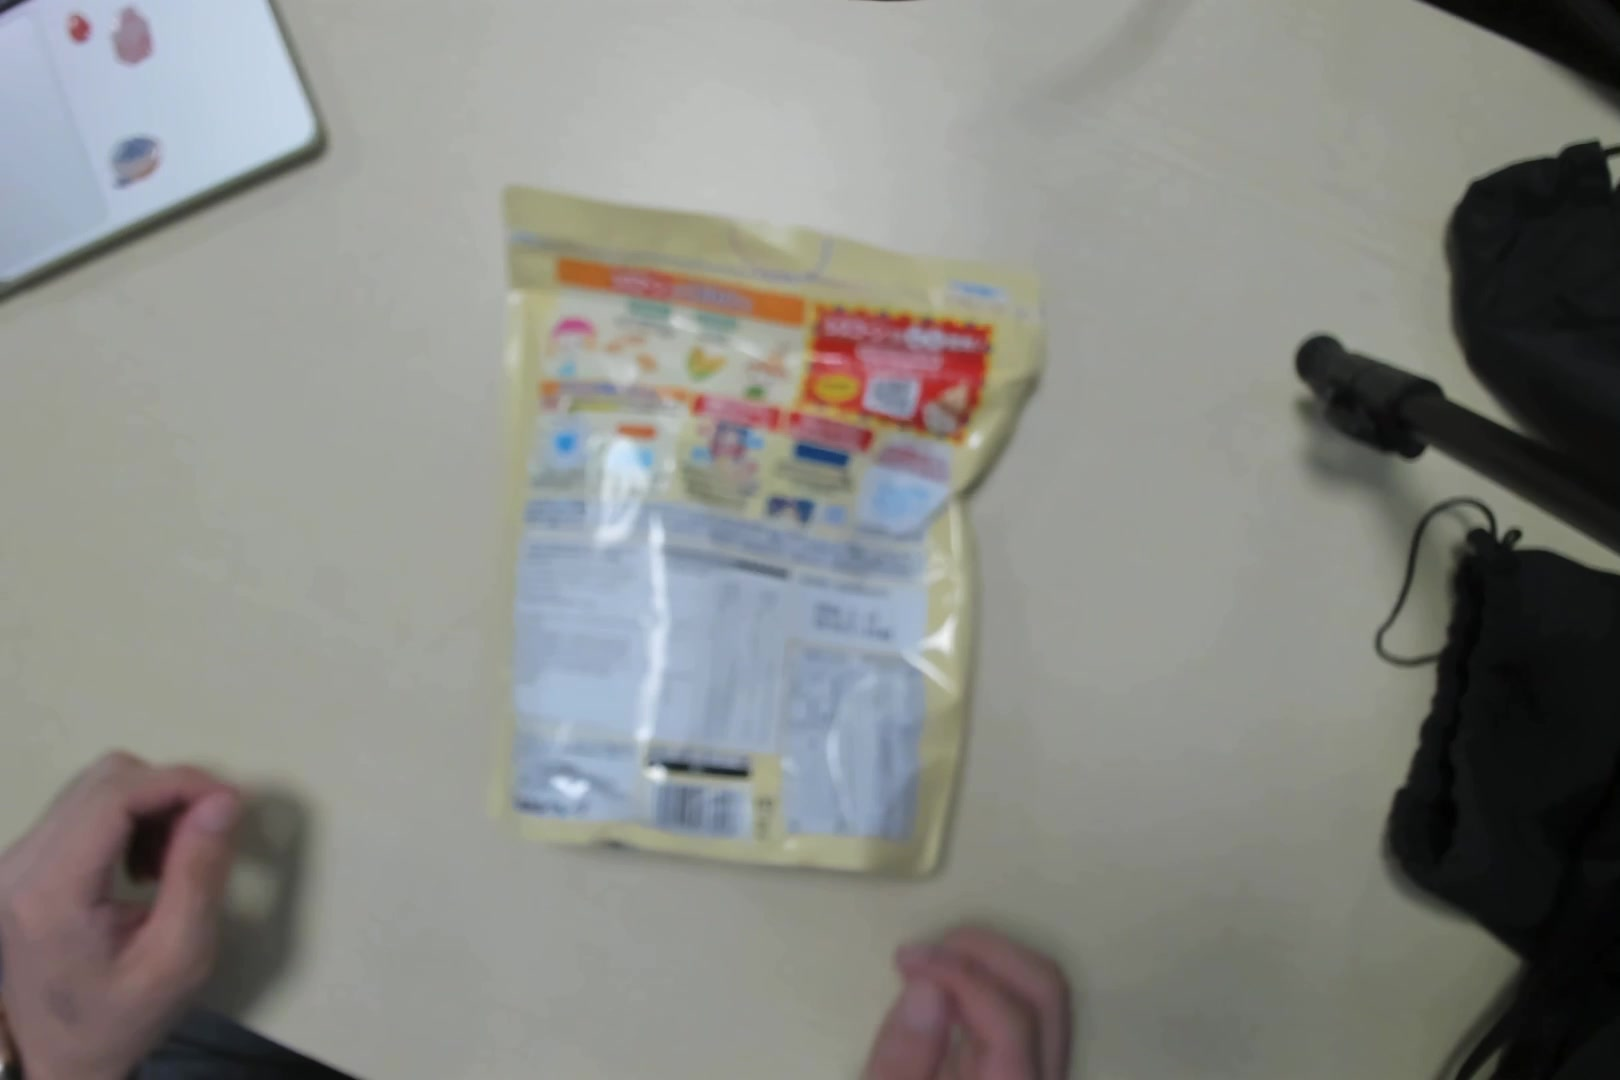BreakfastCereals_100-199g_NonHalal_NonHealthy: (500, 187, 1012, 891)
